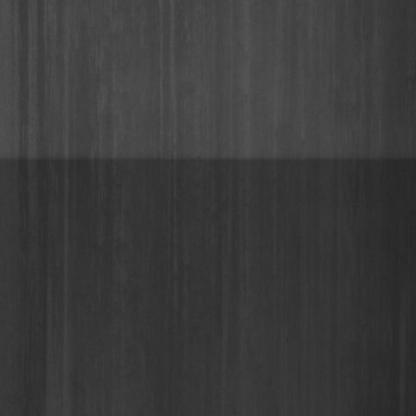welding_line: (0, 142, 416, 181)
